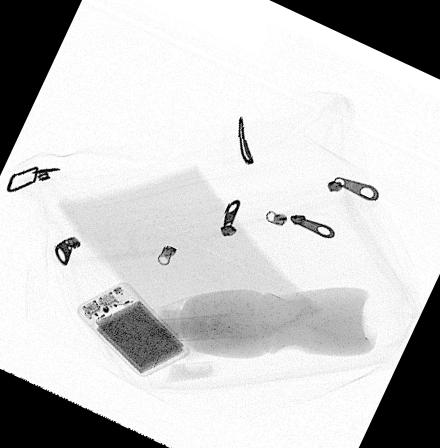Powerbank: (76, 280, 188, 378)
